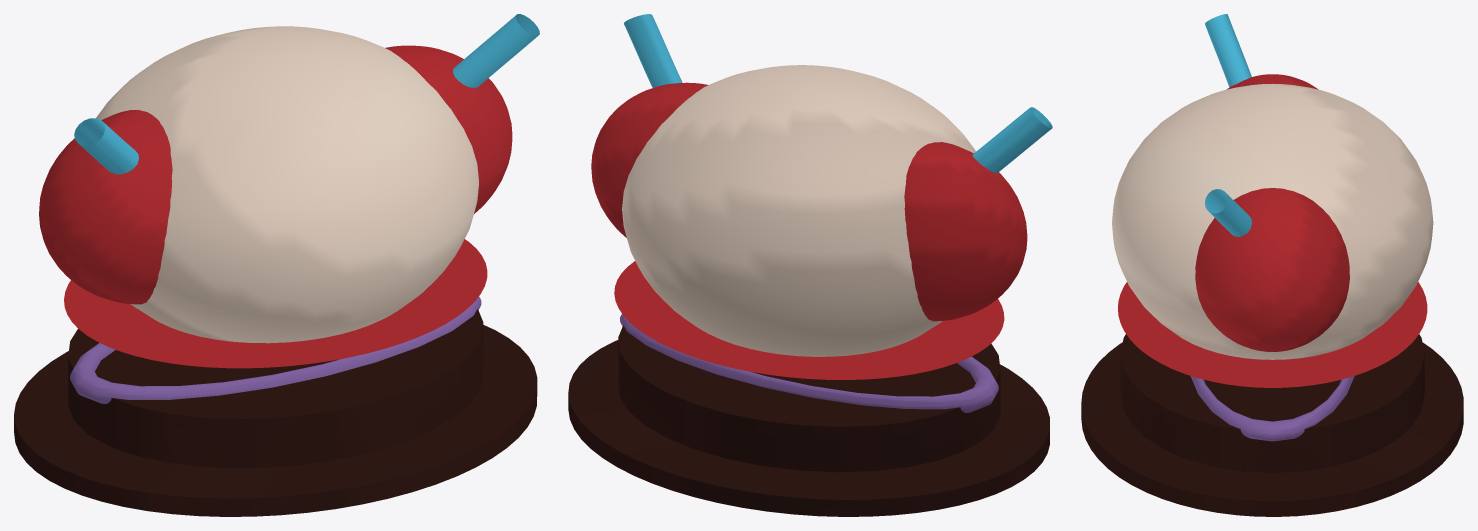
File: 0175_人体图鉴_耳蜗.glb
3 views of the same model, side by side, from view 1: azimuth 30°, elevation 25°; view 2: azimuth 150°, elevation 25°; view 3: azimuth 270°, elevation 25° (orthographic). The views are drawn at different scales.
Parts seen in each view (by area): view 1: card_0175; view 2: card_0175; view 3: card_0175.
Boxes of the visible parts, x1,y1,x2,y2 form: card_0175: (14, 14, 539, 516); card_0175: (568, 14, 1052, 516); card_0175: (1081, 14, 1463, 516).
Size of the model in its own units: 1.33 by 1 by 1.09.
